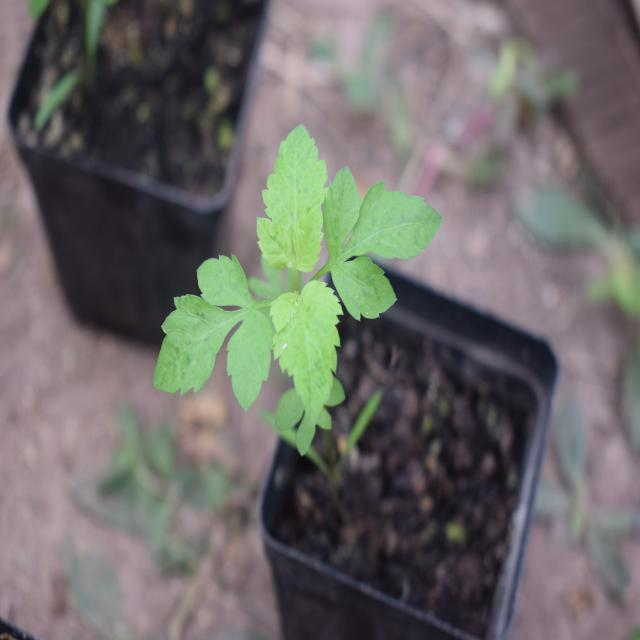Bidens pilosa: (140, 107, 438, 449)
